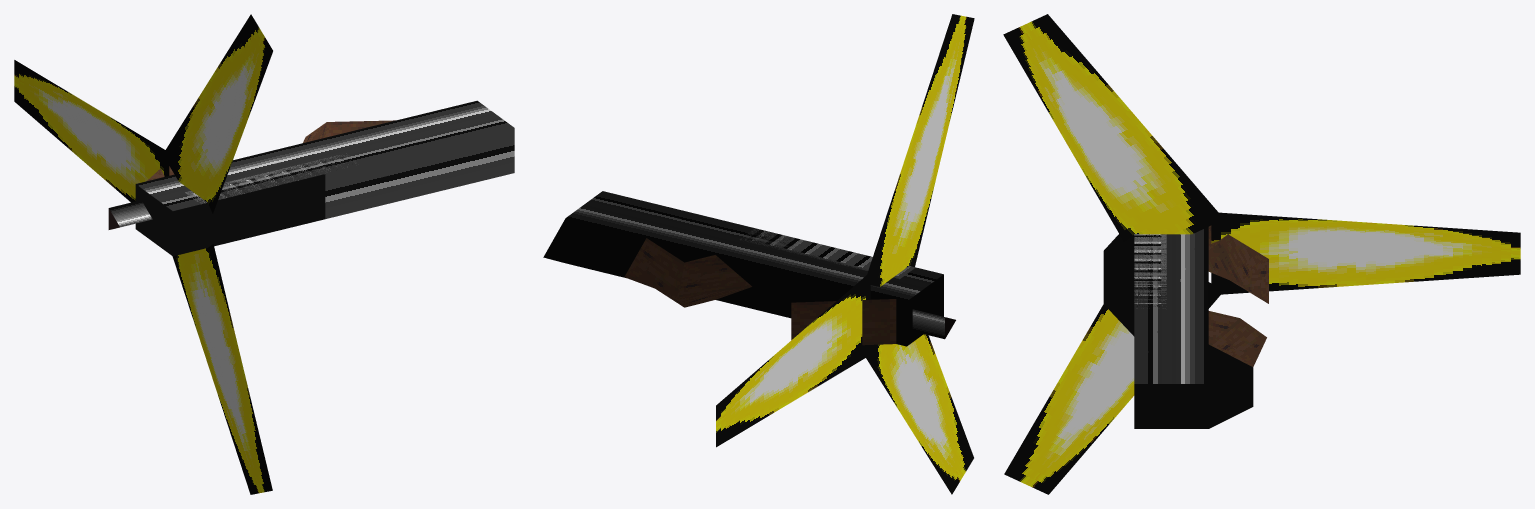
File: Pchrfnp90Z.obj
3 renders of one model, left to right at view 1: azimuth 30°, elevation 25°; view 2: azimuth 150°, elevation 25°; view 3: azimuth 270°, elevation 25°, orthographic.
Size of the model in its own units: 494 by 607 by 592.
7 materials, 7 textured.
